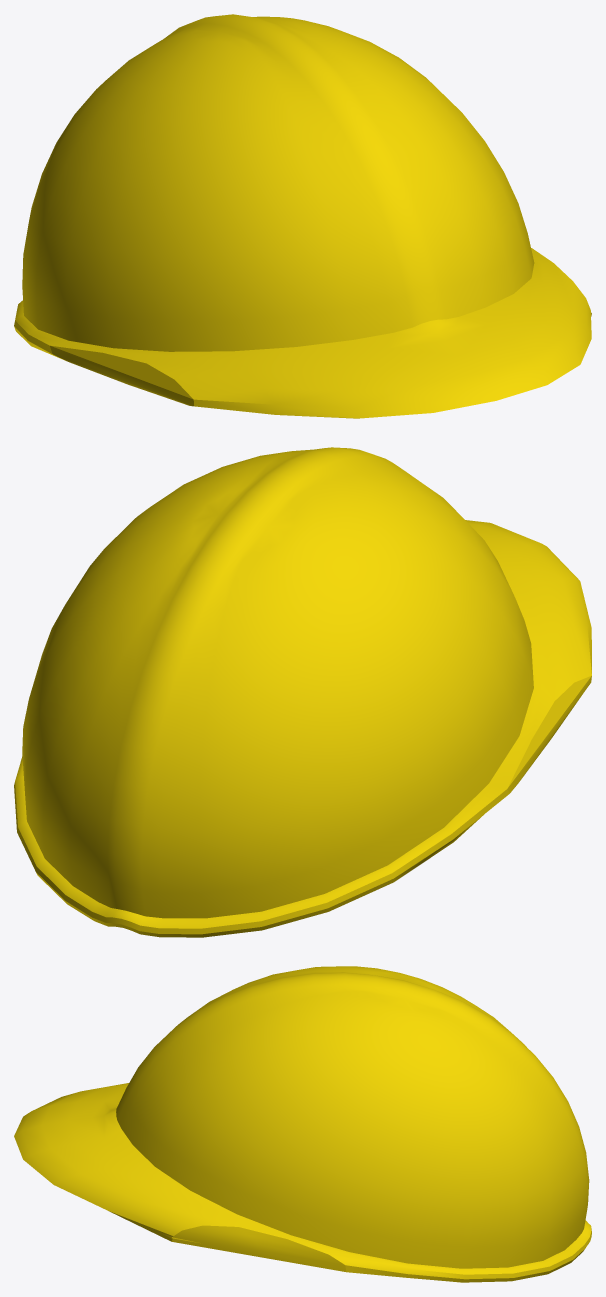
File: Helmet.fbx
3 views of the same model, one above another, from view 1: azimuth 30°, elevation 25°; view 2: azimuth 150°, elevation 25°; view 3: azimuth 270°, elevation 25° (orthographic). The views are drawn at different scales.
Visible parts, largest first — view 1: Helmet; view 2: Helmet; view 3: Helmet.
Part boxes in pixels (x1,y1,x2,y2): Helmet: (14,14,591,418); Helmet: (14,447,591,937); Helmet: (14,966,591,1282).
Size of the model in its own units: 17.63 by 12.56 by 24.94.
